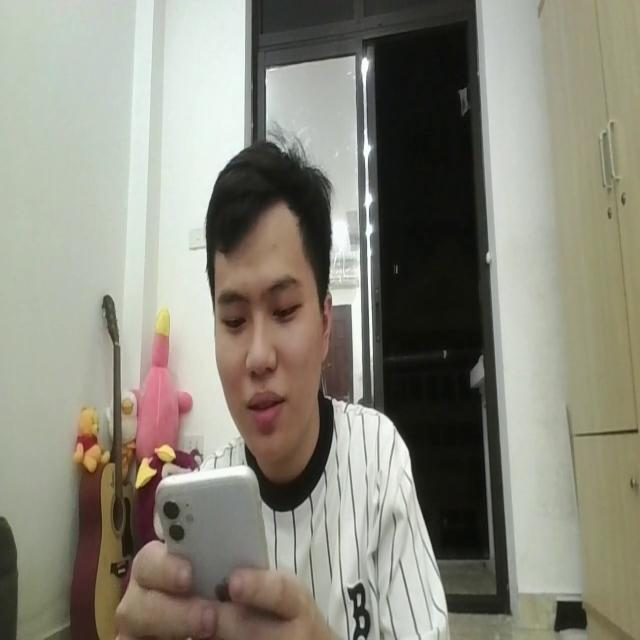phone: (157, 457, 271, 619)
student: (114, 146, 451, 640)
